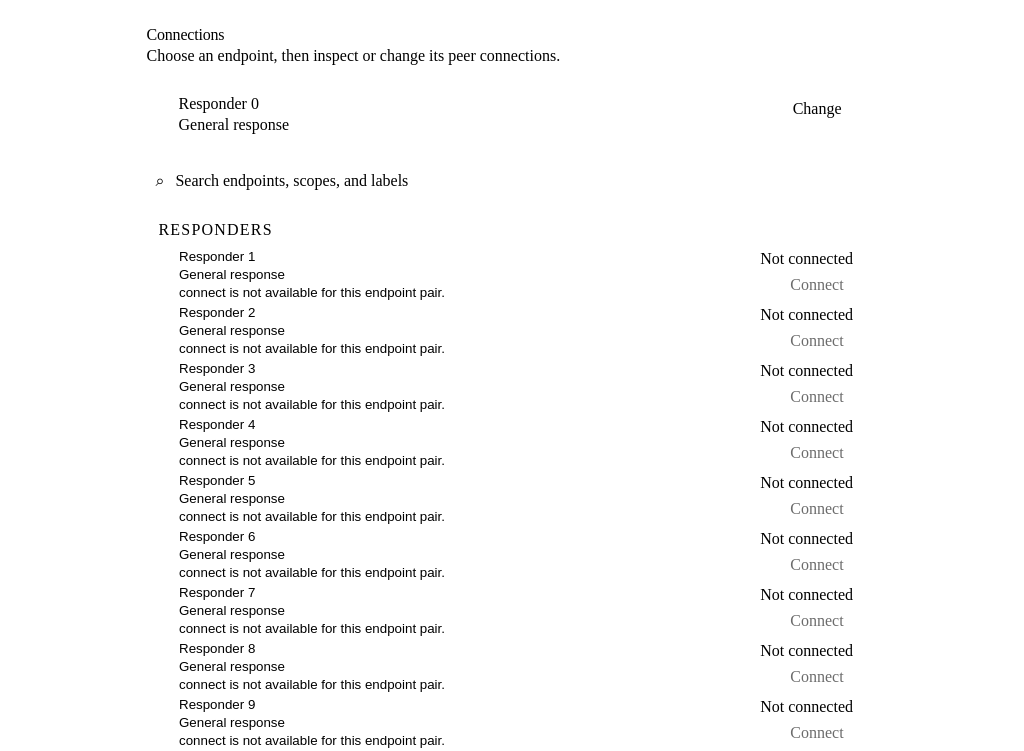
Test: ConnectionPicker › searches a capped roster of hundreds without rendering every row
Type "Rare database" into the field named "Search endpoints" at {"x": 514, "y": 181}, box x1=174 y1=171 x2=854 y2=191
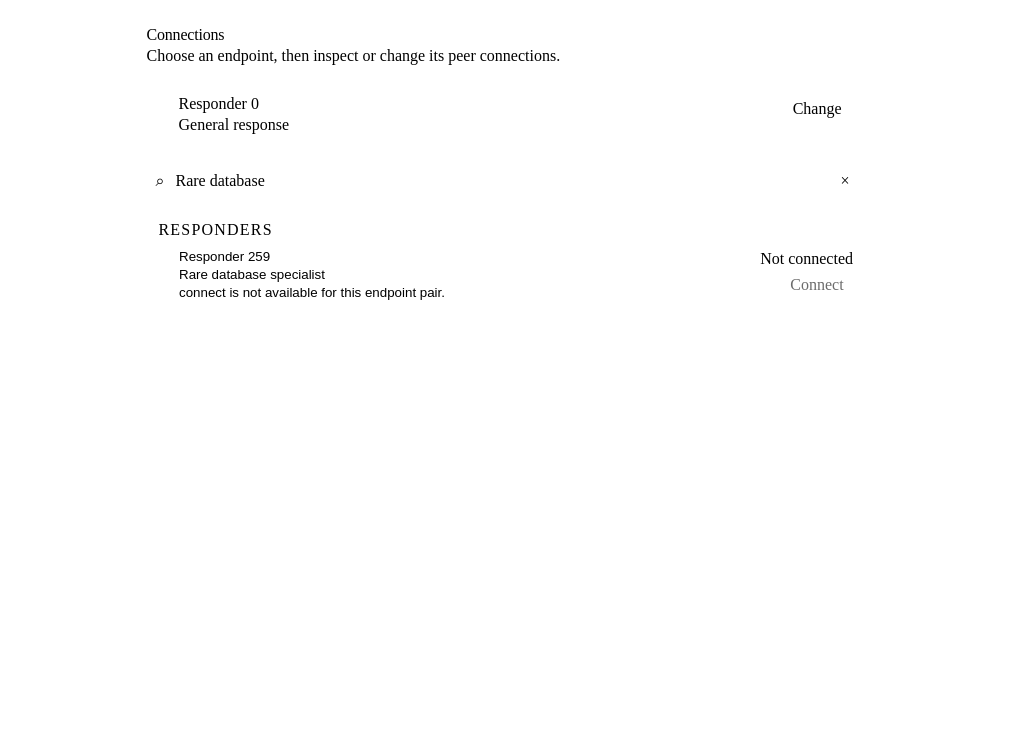
expect the element with test id "connection-picker-row:endpoint-259" is shown: met, box x1=144 y1=246 x2=864 y2=302
